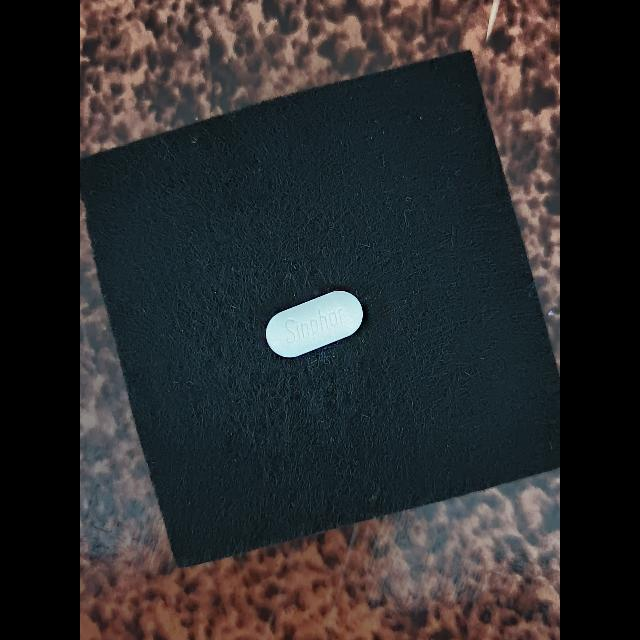Intact Pill: (265, 290, 363, 358)
